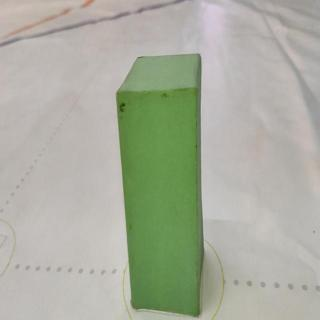greenbox: (115, 53, 207, 316)
